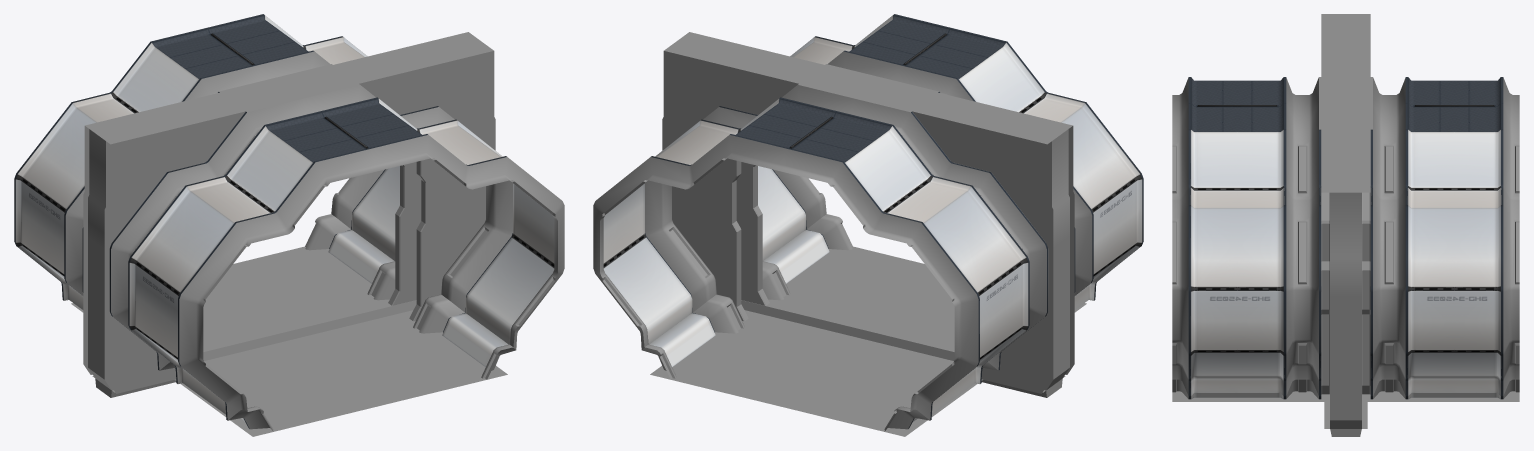
File: Blast_Door_surround_4m.fbx
The picture shows the model from 3 angles, left to right: view 1: azimuth 30°, elevation 25°; view 2: azimuth 150°, elevation 25°; view 3: azimuth 270°, elevation 25°; orthographic projection. The views are drawn at different scales.
Parts seen in each view (by area): view 1: Blast_Door_surround_4m; view 2: Blast_Door_surround_4m; view 3: Blast_Door_surround_4m.
Part boxes in pixels (x1,y1,x2,y2): Blast_Door_surround_4m: [14, 14, 564, 436]; Blast_Door_surround_4m: [593, 14, 1143, 436]; Blast_Door_surround_4m: [1172, 14, 1519, 436].
Bounding box in the file's own units: 490 × 314 × 400.
Materials: 6 (2 with a texture image).
